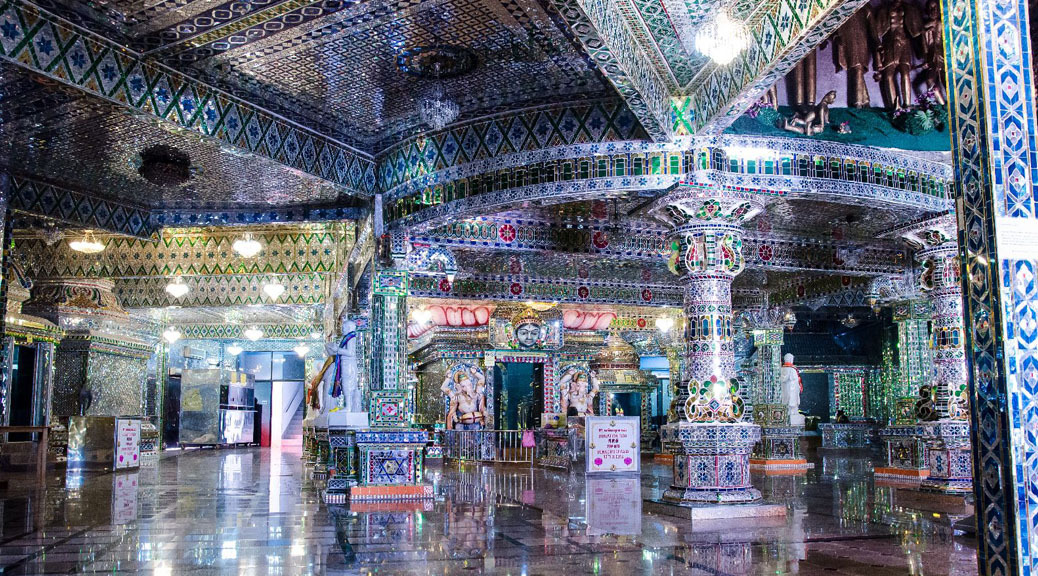Hindu Temple: (336, 181, 783, 485)
